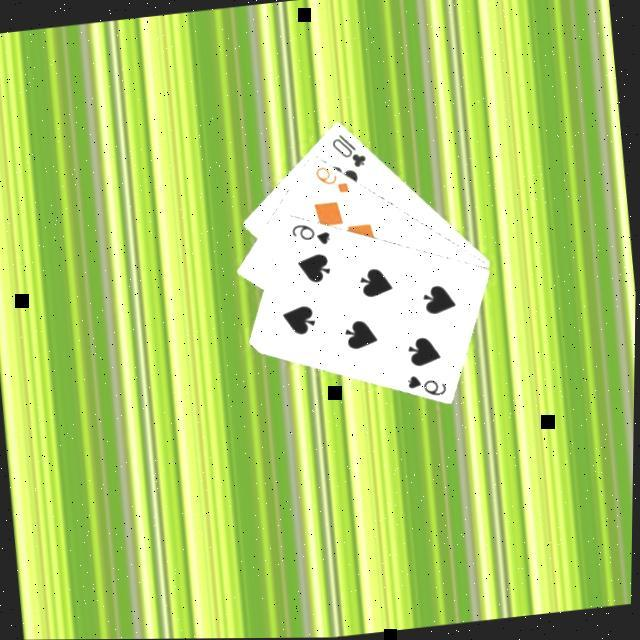10C: (328, 126, 370, 172)
6S: (403, 366, 452, 400), (288, 214, 336, 248)
9D: (312, 156, 354, 196)
